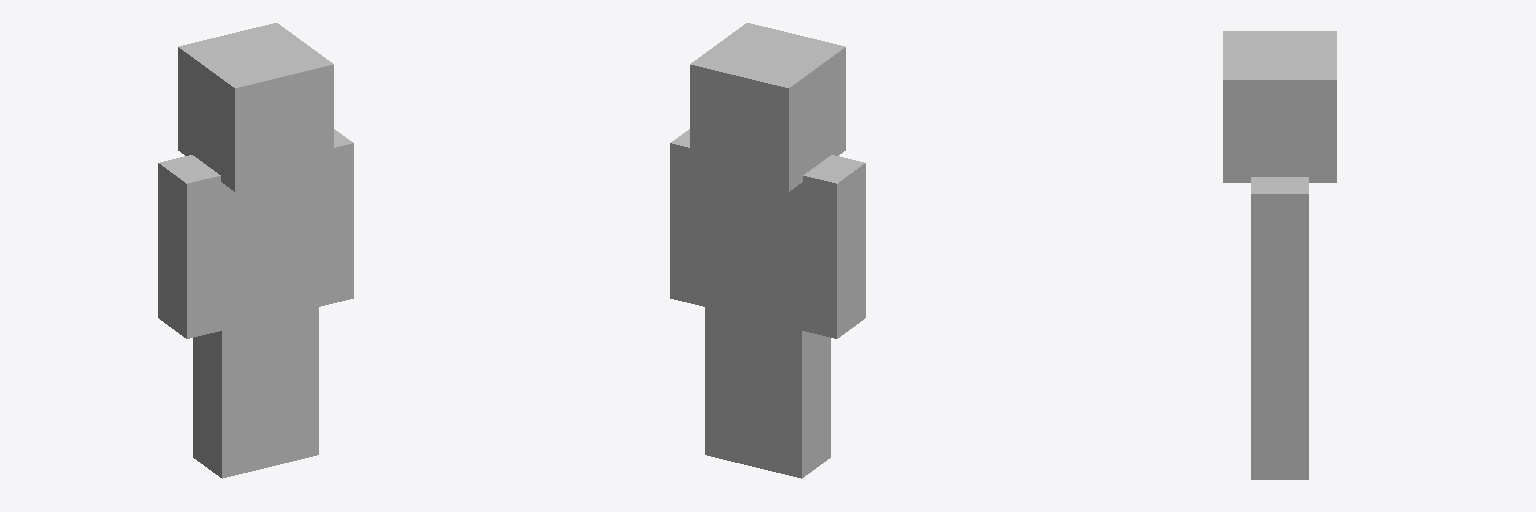
File: alex.obj
3 views of the same model, side by side, from view 1: azimuth 30°, elevation 25°; view 2: azimuth 150°, elevation 25°; view 3: azimuth 270°, elevation 25° (orthographic).
Parts seen in each view (by area): view 1: Alex_Cube.003; view 2: Alex_Cube.003; view 3: Alex_Cube.003.
Boxes of the visible parts, x1,y1,x2,y2 form: Alex_Cube.003: [158, 23, 353, 478]; Alex_Cube.003: [670, 23, 865, 478]; Alex_Cube.003: [1223, 31, 1336, 479].
Size of the model in its own units: 14.15 by 32.5 by 8.4.